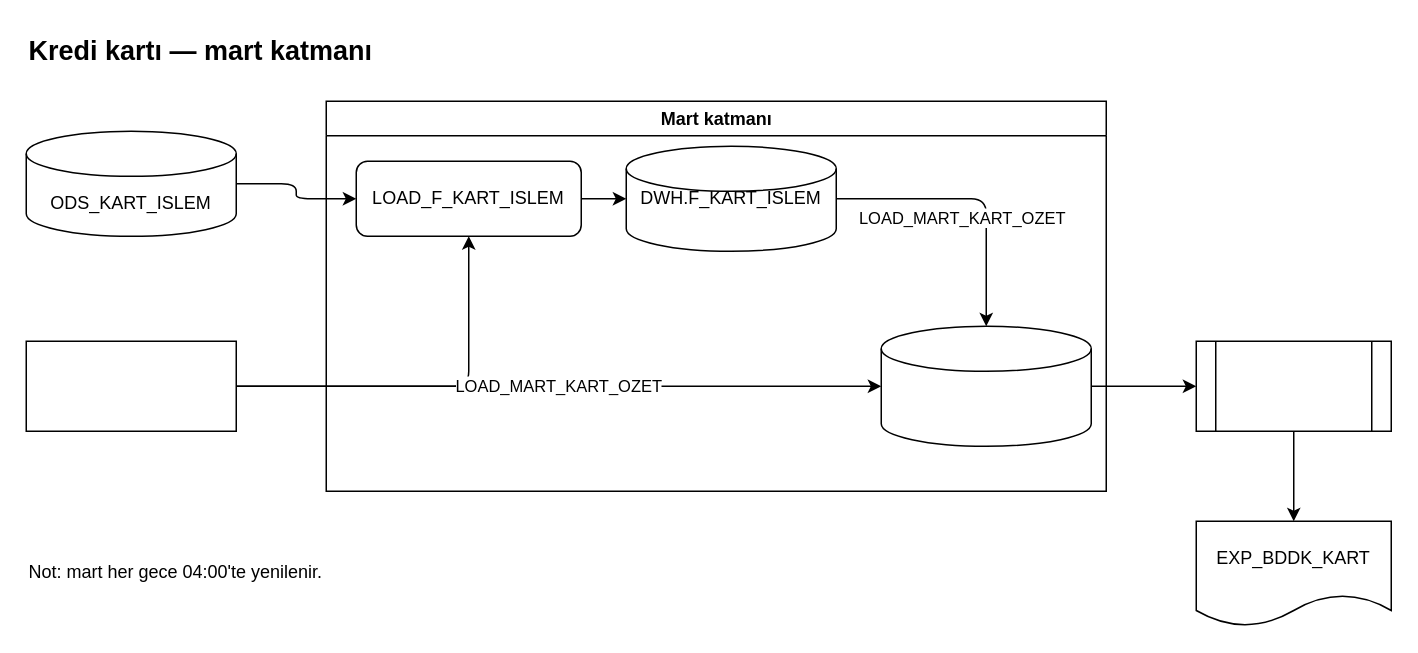
This 1418x653 diagram has some shape labels left out. The shapes that lost their labels are listed below. From the top down, each one's centre as x and y in pixels, then its label:
point (130, 385): DWH.D_MUSTERI
point (985, 385): DWH.MART_KART_OZET (günlük)
point (1293, 385): EXP_BDDK
